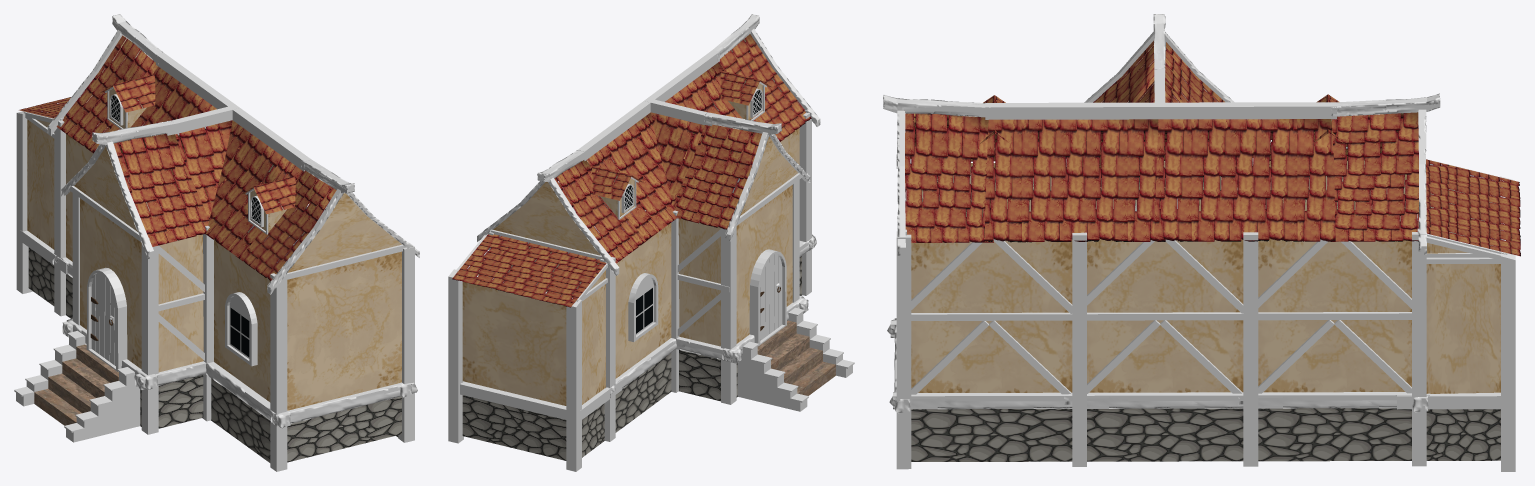
Rendered from house_1.fbx.
3 renders of one model, left to right at view 1: azimuth 30°, elevation 25°; view 2: azimuth 150°, elevation 25°; view 3: azimuth 270°, elevation 25°, orthographic. The views are drawn at different scales.
Visible parts, largest first — view 1: Plane.012, Cube.064, Cube.001, Plane.009, Cube, Plane.1650, Cube.004, Cube.002, Plane.006, Plane.023, Plane.011, Cube.005 (+17 smaller); view 2: Plane.080, Cube.064, Cube.002, Plane.008, Cube, Plane.042, Plane.1649, Cube.010, Cube.001, Plane.006, Plane.021, Cube.005 (+18 smaller); view 3: Plane.030, Plane.031, Plane.005, Plane.1649, Plane.1650, Cube.002, Cube.001, Plane.040, Plane.039, Plane.038, Plane.037, Plane.042 (+9 smaller).
Part boxes in pixels (x1=…): Plane.012: x1=270, y1=251, x2=417, y2=426; Cube.064: x1=61, y1=120, x2=209, y2=258; Cube.001: x1=236, y1=159, x2=419, y2=294; Plane.009: x1=206, y1=239, x2=290, y2=428; Cube: x1=14, y1=330, x2=140, y2=442; Plane.1650: x1=182, y1=104, x2=311, y2=258; Cube.004: x1=135, y1=234, x2=206, y2=389; Cube.002: x1=47, y1=14, x2=162, y2=152; Plane.006: x1=80, y1=198, x2=141, y2=369; Plane.023: x1=287, y1=396, x2=401, y2=462; Plane.011: x1=66, y1=267, x2=157, y2=390; Cube.005: x1=139, y1=105, x2=261, y2=222; Plane.080: x1=462, y1=282, x2=566, y2=405; Cube.064: x1=673, y1=112, x2=810, y2=241; Cube.002: x1=477, y1=150, x2=647, y2=275; Plane.008: x1=605, y1=223, x2=676, y2=388; Cube: x1=737, y1=307, x2=854, y2=411; Plane.042: x1=452, y1=234, x2=606, y2=307; Plane.1649: x1=577, y1=101, x2=710, y2=240; Cube.010: x1=676, y1=218, x2=742, y2=363; Cube.001: x1=705, y1=14, x2=820, y2=141; Plane.006: x1=736, y1=185, x2=792, y2=343; Plane.021: x1=462, y1=395, x2=566, y2=460; Cube.005: x1=635, y1=98, x2=731, y2=209; Plane.030: x1=889, y1=239, x2=1072, y2=409; Plane.031: x1=1064, y1=238, x2=1243, y2=408; Plane.005: x1=1238, y1=238, x2=1430, y2=408; Plane.1649: x1=1154, y1=102, x2=1336, y2=241; Plane.1650: x1=984, y1=102, x2=1167, y2=242; Cube.002: x1=1331, y1=93, x2=1440, y2=254; Cube.001: x1=883, y1=95, x2=993, y2=255; Plane.040: x1=1426, y1=243, x2=1500, y2=393; Plane.039: x1=911, y1=409, x2=1072, y2=461; Plane.038: x1=1087, y1=408, x2=1243, y2=461; Plane.037: x1=1258, y1=408, x2=1411, y2=461; Plane.042: x1=1426, y1=159, x2=1520, y2=256.
Bounding box in the file's own units: 149 × 150 × 257.
Materials: 8 (5 with a texture image).
